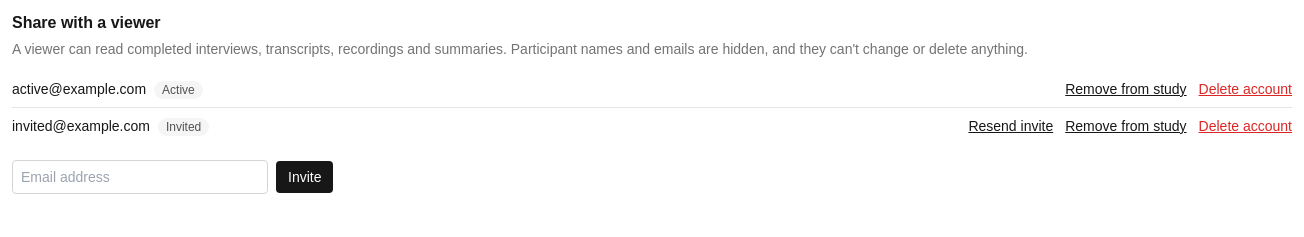
Test: SharePanel › resends an invite
This screenshot has width=1304, height=237.
Expected: the text "invited@example.com" is shown, x1=12 y1=118 x2=150 y2=134
Click the button "Resend invite" at point(1011, 126), box x1=968 y1=116 x2=1053 y2=136
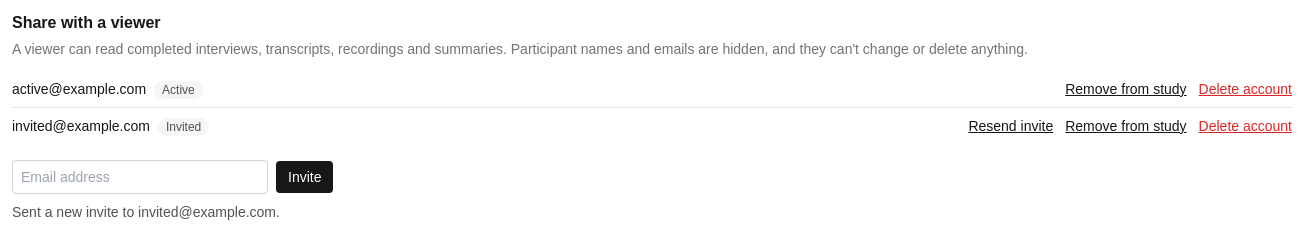
Result: the message shows "new invite to invited@example.com" at x1=12 y1=204 x2=280 y2=220
